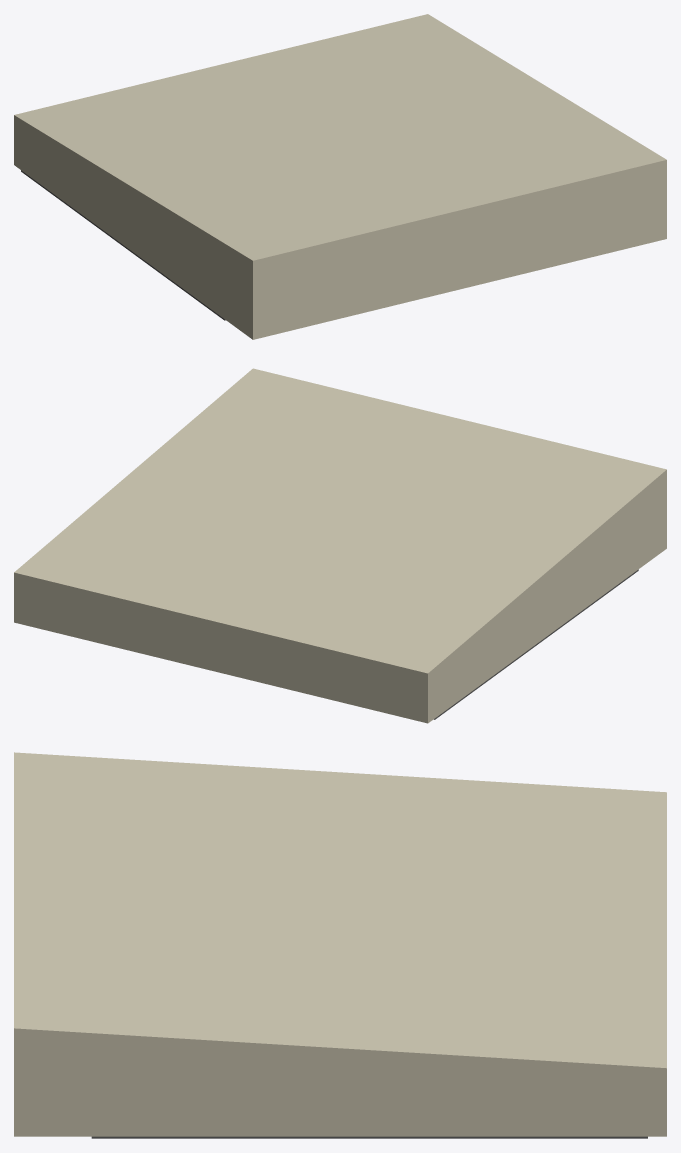
Rendered from step_02.glb.
The picture shows the model from 3 angles, top to bottom: view 1: azimuth 30°, elevation 25°; view 2: azimuth 150°, elevation 25°; view 3: azimuth 270°, elevation 25°; orthographic projection. The views are drawn at different scales.
Parts seen in each view (by area): view 1: part__cushion foam; view 2: part__cushion foam; view 3: part__cushion foam, part__diaphragm.
Boxes of the visible parts, bbox=[...] form: part__cushion foam: bbox=[14, 14, 666, 339]; part__cushion foam: bbox=[14, 368, 666, 723]; part__cushion foam: bbox=[14, 752, 666, 1136]; part__diaphragm: bbox=[91, 1136, 647, 1138].
Bounding box in the file's own units: 446 × 83 × 446.
